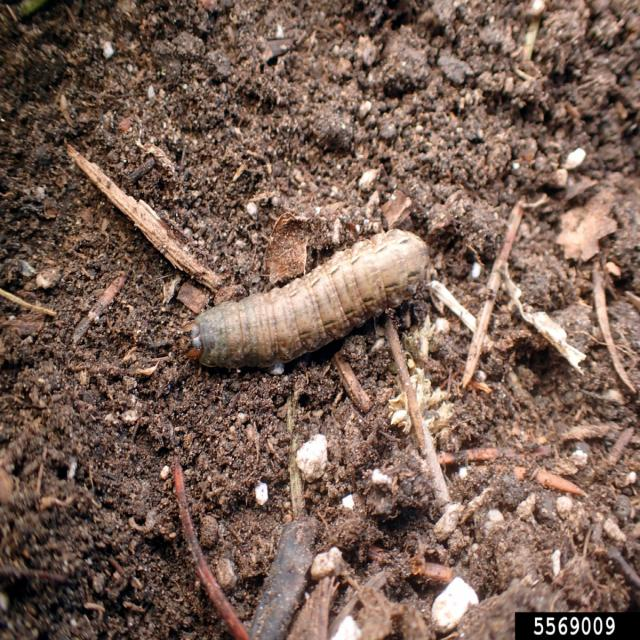Cutworm: (191, 240, 439, 373)
